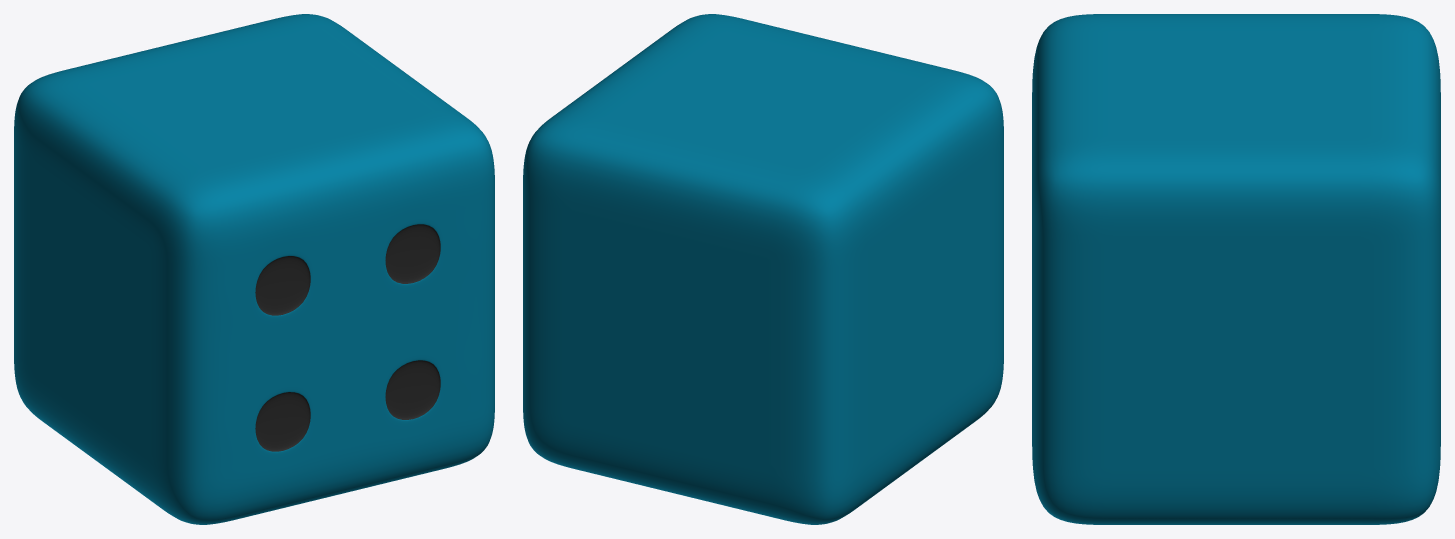
Rendered from dice_4.fbx.
3 renders of one model, left to right at view 1: azimuth 30°, elevation 25°; view 2: azimuth 150°, elevation 25°; view 3: azimuth 270°, elevation 25°, orthographic. The views are drawn at different scales.
Visible parts, largest first — view 1: pCube1; view 2: pCube1; view 3: pCube1.
Part boxes in pixels (<box>): pCube1: <box>14,14,494,524</box>; pCube1: <box>523,14,1003,524</box>; pCube1: <box>1032,14,1440,524</box>.
Bounding box in the file's own units: 100 × 100 × 100.
